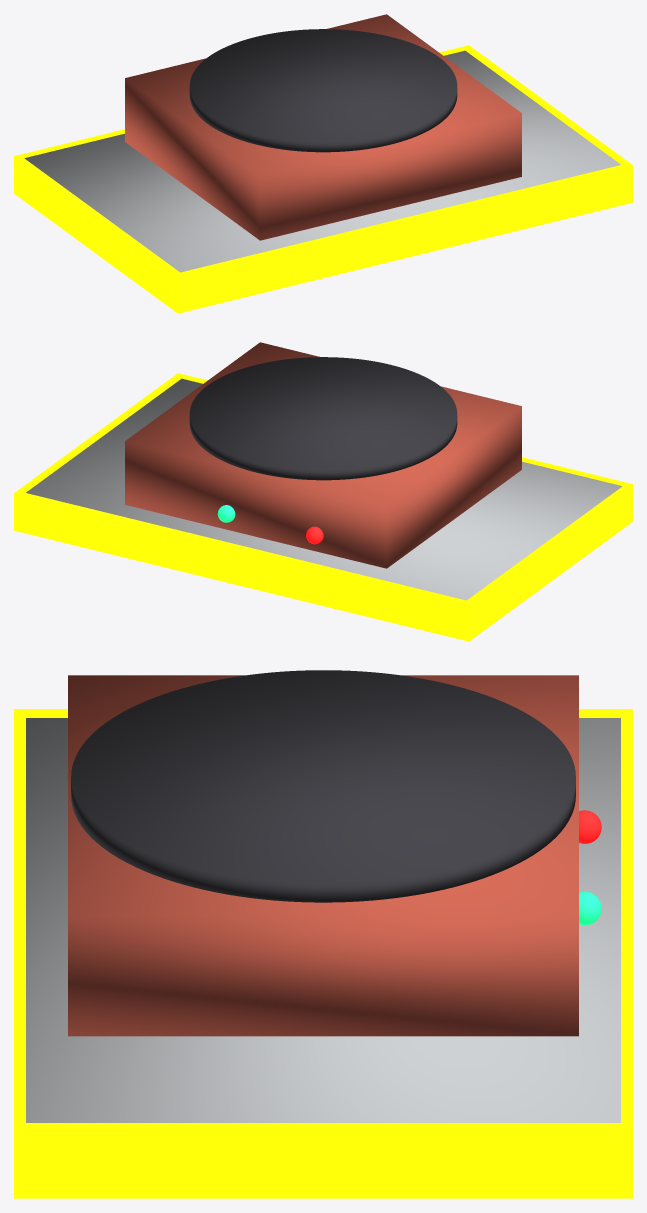
Rendered from Postbakeglb.glb.
The picture shows the model from 3 angles, top to bottom: view 1: azimuth 30°, elevation 25°; view 2: azimuth 150°, elevation 25°; view 3: azimuth 270°, elevation 25°; orthographic projection. The views are drawn at different scales.
Visible parts, largest first — view 1: HotPlate_Body, Wafer_Chuck, Outer_Tray, Yellow_Border_1, Yellow_Border_3, Yellow_Border_2, Yellow_Border_0; view 2: HotPlate_Body, Wafer_Chuck, Outer_Tray, Yellow_Border_0, Yellow_Border_3, Yellow_Border_2, Yellow_Border_1; view 3: Wafer_Chuck, HotPlate_Body, Outer_Tray, Yellow_Border_2, Yellow_Border_1, Yellow_Border_0, Yellow_Border_3.
Boxes of the visible parts, left/top/right/bottom form: HotPlate_Body: left=125, top=14, right=521, bottom=240; Wafer_Chuck: left=189, top=29, right=457, bottom=152; Outer_Tray: left=24, top=50, right=620, bottom=272; Yellow_Border_1: left=174, top=163, right=632, bottom=313; Yellow_Border_3: left=16, top=156, right=179, bottom=311; Yellow_Border_2: left=465, top=47, right=629, bottom=164; Yellow_Border_0: left=14, top=45, right=471, bottom=195; HotPlate_Body: left=125, top=342, right=521, bottom=568; Wafer_Chuck: left=189, top=357, right=457, bottom=480; Outer_Tray: left=26, top=378, right=622, bottom=600; Yellow_Border_0: left=14, top=491, right=471, bottom=641; Yellow_Border_3: left=467, top=484, right=631, bottom=639; Yellow_Border_2: left=17, top=374, right=180, bottom=492; Yellow_Border_1: left=175, top=373, right=632, bottom=522; Wafer_Chuck: left=71, top=670, right=575, bottom=902; HotPlate_Body: left=68, top=675, right=578, bottom=1036; Outer_Tray: left=26, top=718, right=620, bottom=1122; Yellow_Border_2: left=20, top=1123, right=626, bottom=1198; Yellow_Border_1: left=14, top=709, right=25, bottom=1198; Yellow_Border_0: left=621, top=709, right=632, bottom=1198; Yellow_Border_3: left=20, top=709, right=626, bottom=717.
Size of the model in its own units: 1.65 by 0.39 by 1.03.
